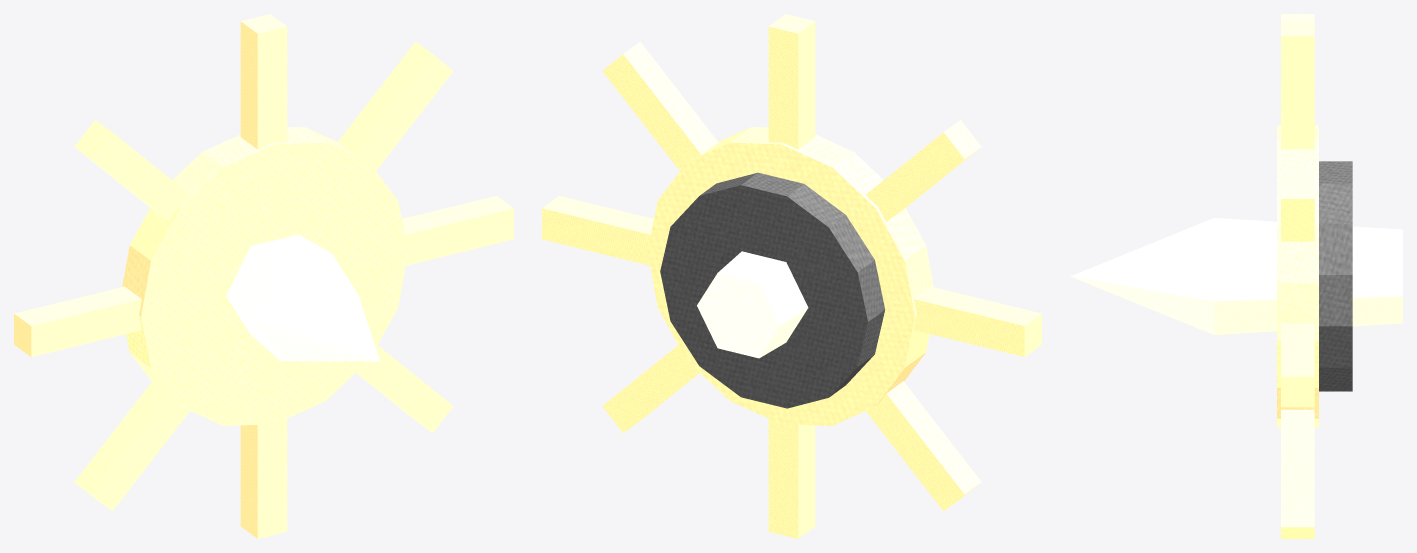
File: boss-yagluth-sunheart.glb
3 renders of one model, left to right at view 1: azimuth 30°, elevation 25°; view 2: azimuth 150°, elevation 25°; view 3: azimuth 270°, elevation 25°, orthographic. The views are drawn at different scales.
Visible parts, largest first — view 1: sun-disk, solar-core, ray-5, ray-1, ray-2, ray-4, ray-6, ray-0, ray-3, ray-7; view 2: black-back, sun-disk, solar-core, ray-5, ray-1, ray-2, ray-4, ray-6, ray-0, ray-3, ray-7; view 3: solar-core, black-back, sun-disk, ray-7, ray-2, ray-0, ray-1.
Part boxes in pixels (<box>): sun-disk: <box>122,127,408,425</box>; solar-core: <box>226,234,379,361</box>; ray-5: <box>74,381,189,511</box>; ray-1: <box>337,41,453,170</box>; ray-2: <box>240,14,287,149</box>; ray-4: <box>14,286,141,356</box>; ray-6: <box>240,419,287,538</box>; ray-0: <box>402,196,513,265</box>; ray-3: <box>74,120,190,221</box>; ray-7: <box>356,345,453,432</box>; black-back: <box>660,172,885,408</box>; sun-disk: <box>647,127,933,425</box>; solar-core: <box>697,251,808,358</box>; ray-5: <box>866,381,981,511</box>; ray-1: <box>602,41,718,170</box>; ray-2: <box>768,14,815,149</box>; ray-4: <box>914,286,1041,356</box>; ray-6: <box>768,419,815,538</box>; ray-0: <box>542,196,653,265</box>; ray-3: <box>865,120,981,221</box>; ray-7: <box>602,345,699,432</box>; solar-core: <box>1070,218,1402,334</box>; black-back: <box>1319,161,1352,391</box>; sun-disk: <box>1277,125,1318,427</box>; ray-7: <box>1281,409,1314,538</box>; ray-2: <box>1281,21,1314,149</box>; ray-0: <box>1281,323,1314,407</box>; ray-1: <box>1281,167,1314,241</box>.
Bounding box in the file's own units: 1.3 × 1.3 × 0.792.
Materials: 3 (3 with a texture image).
